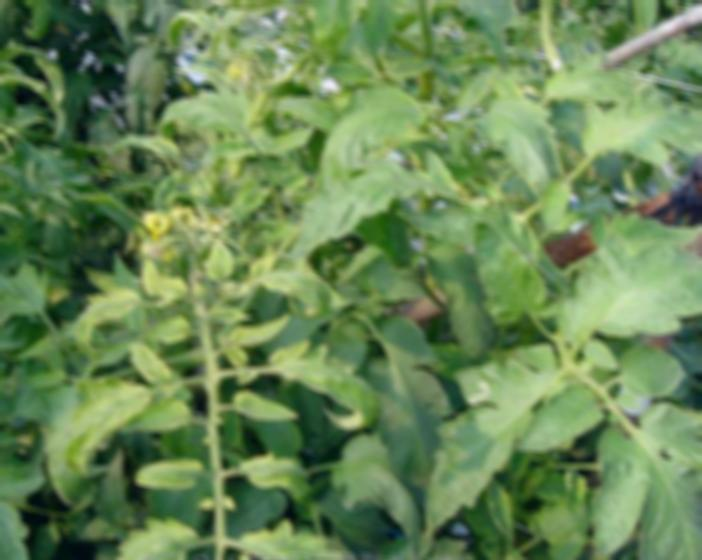Tomato leaf yellow virus: (413, 351, 560, 541), (543, 229, 702, 350), (596, 385, 702, 560), (267, 165, 437, 269), (297, 86, 432, 184), (42, 383, 153, 490), (274, 334, 378, 430), (569, 88, 702, 163), (522, 55, 676, 106), (295, 0, 376, 77), (64, 277, 137, 361), (83, 505, 193, 560), (154, 83, 256, 139), (116, 390, 203, 448), (230, 447, 313, 503), (242, 523, 362, 560), (225, 384, 300, 433), (126, 458, 209, 493), (190, 236, 238, 287)
